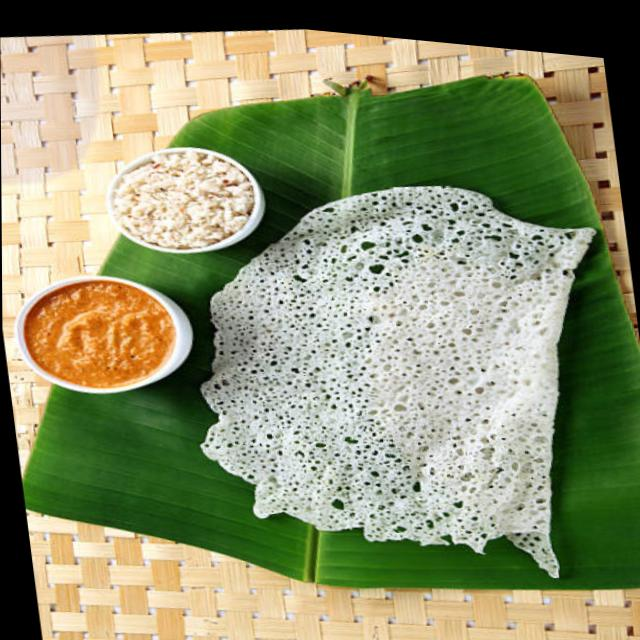AAPAM: (198, 186, 590, 578)
RED CHUTNEY: (25, 278, 172, 387)
WHITE CHUTNEY: (115, 153, 254, 248)
